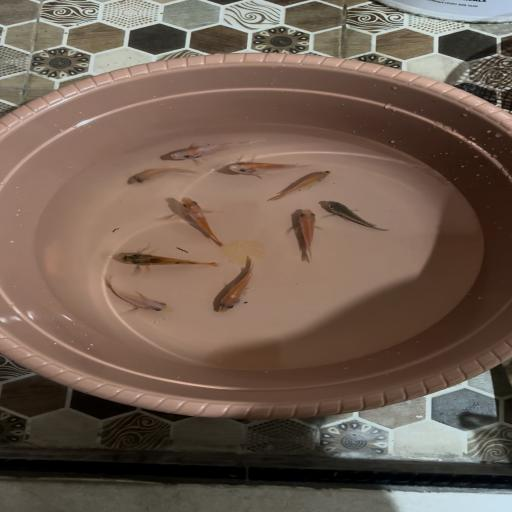nila: (206, 259, 271, 317), (169, 197, 237, 248), (164, 132, 270, 164), (98, 276, 177, 316), (283, 209, 331, 265), (258, 169, 339, 201), (320, 196, 388, 234), (112, 251, 223, 274), (222, 154, 323, 178), (117, 164, 211, 188)
